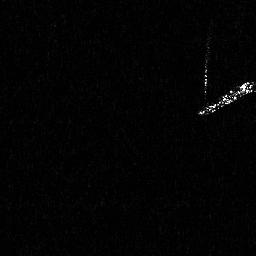ship: (196, 77, 252, 118), (201, 58, 210, 98)
